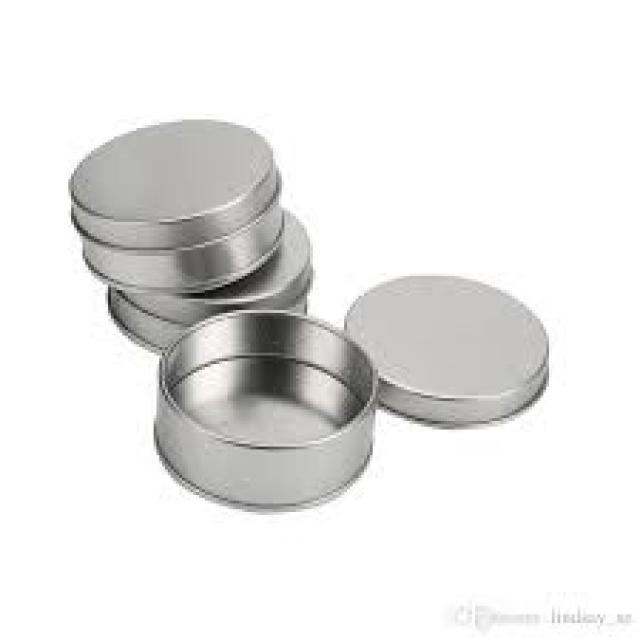metal: (157, 311, 378, 509), (348, 276, 548, 426), (72, 120, 278, 250), (128, 214, 312, 324), (80, 205, 284, 292), (109, 288, 190, 352)
